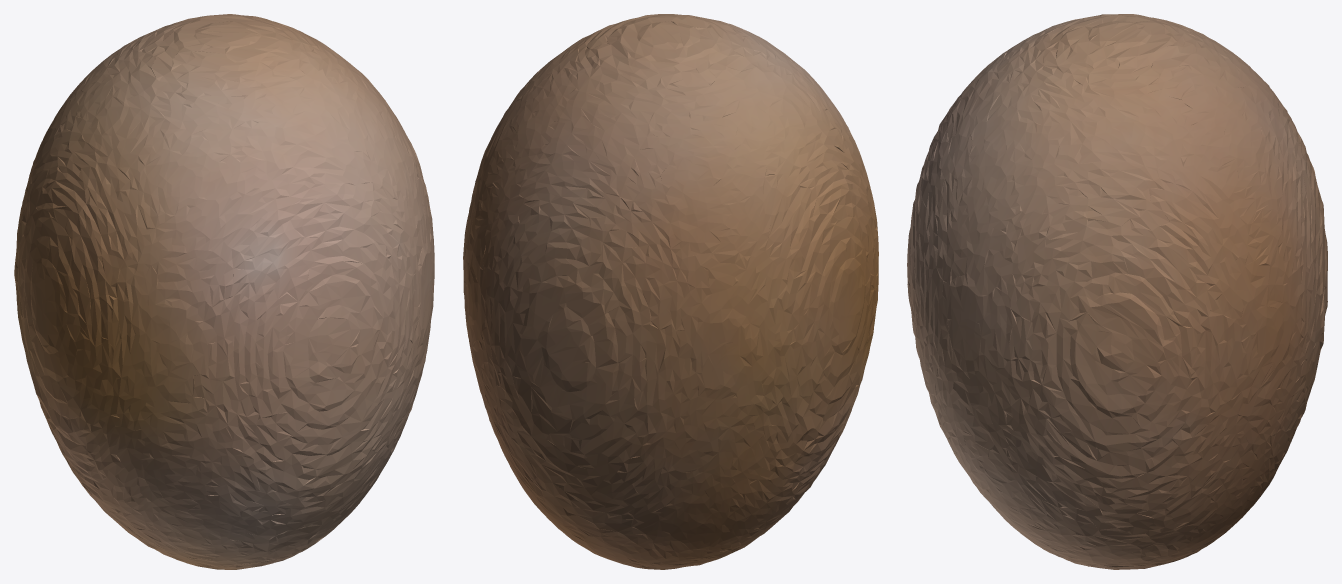
Rendered from egg_1.glb.
The picture shows the model from 3 angles, left to right: view 1: azimuth 30°, elevation 25°; view 2: azimuth 150°, elevation 25°; view 3: azimuth 270°, elevation 25°; orthographic projection.
Visible parts, largest first — view 1: geometry_0; view 2: geometry_0; view 3: geometry_0.
Boxes of the visible parts, box(x1,y1,x2,y2) form: geometry_0: box(14, 14, 434, 569); geometry_0: box(463, 14, 878, 569); geometry_0: box(907, 14, 1327, 569).
Size of the model in its own units: 0.7223 by 1 by 0.7317.
